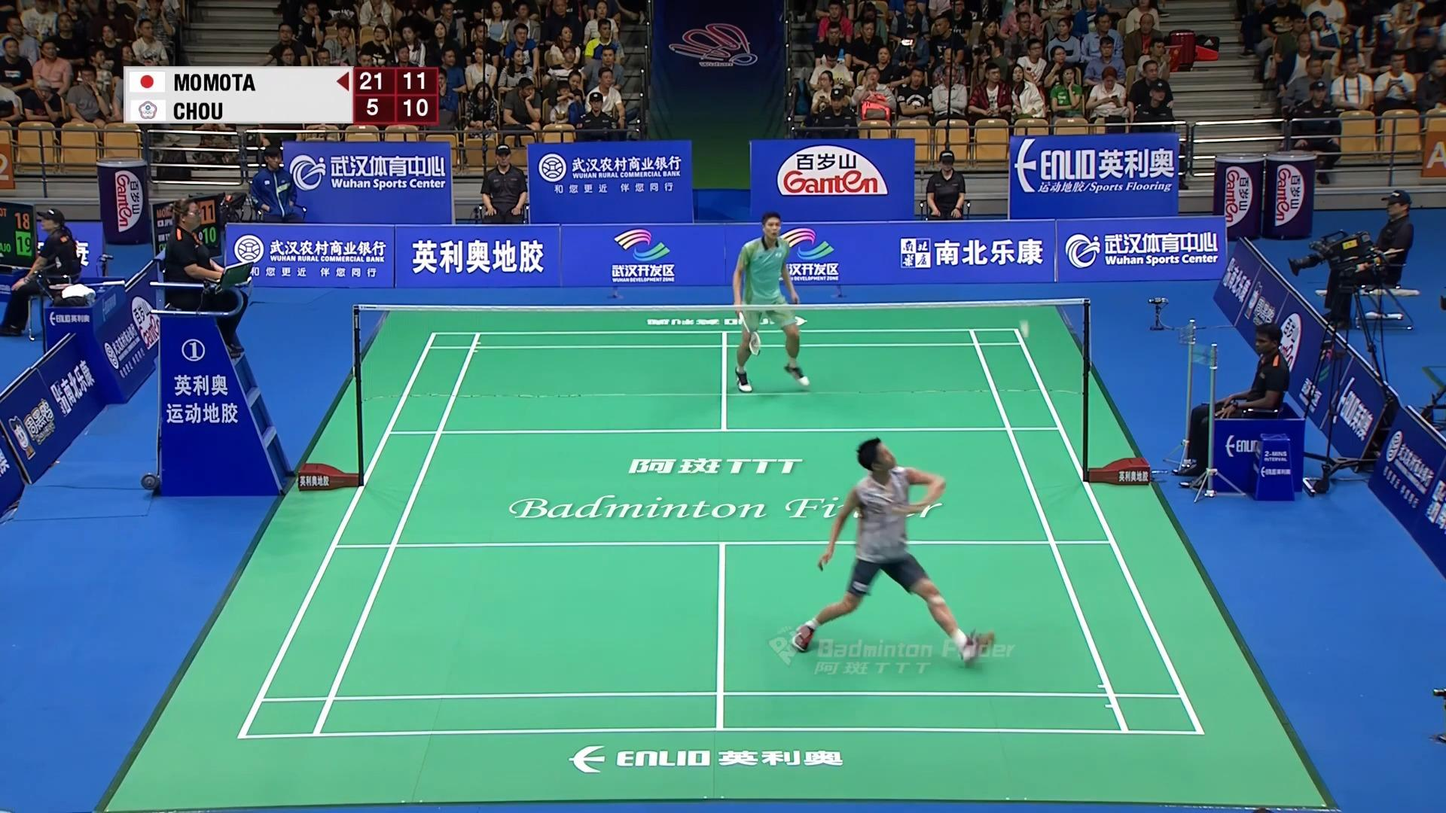player: (790, 436, 995, 666), (734, 211, 810, 394)
shuttlecock: (1019, 320, 1029, 339)
